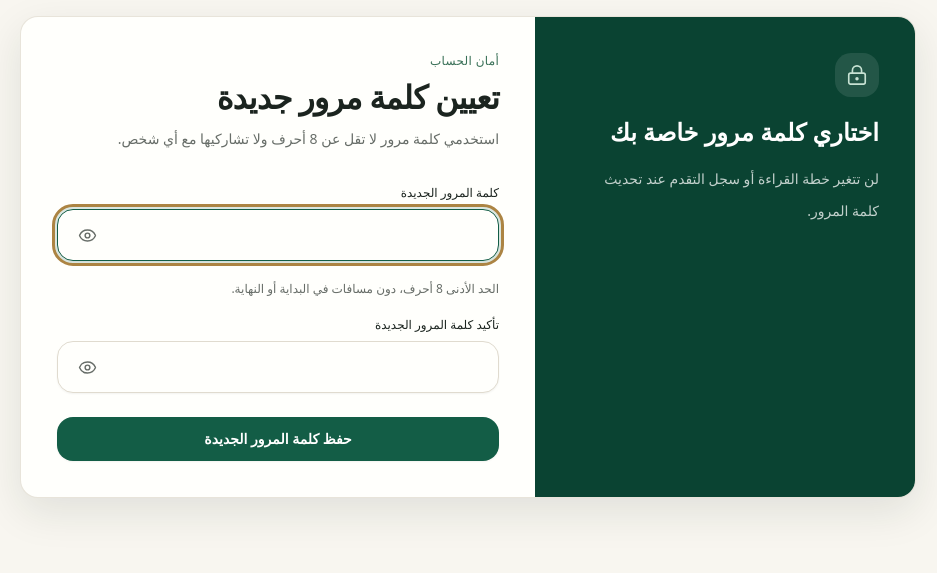
it: ResetPasswordPage › enforces password policy and matching confirmation
Type "short" into the password field labelled "كلمة المرور الجديدة" at (278, 235), box [57, 209, 499, 261]
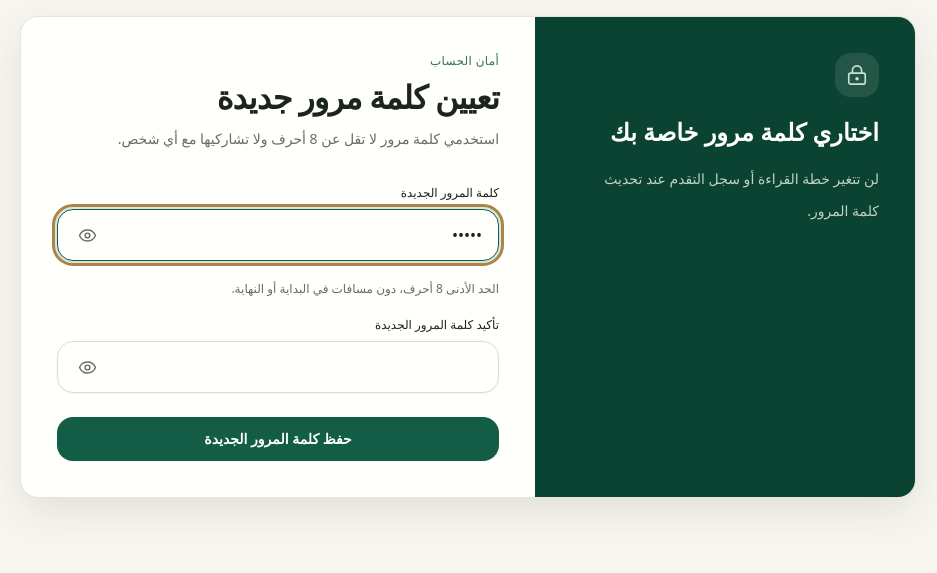
Type "short" into the password field labelled "تأكيد كلمة المرور الجديدة" at (278, 367), box [57, 341, 499, 393]
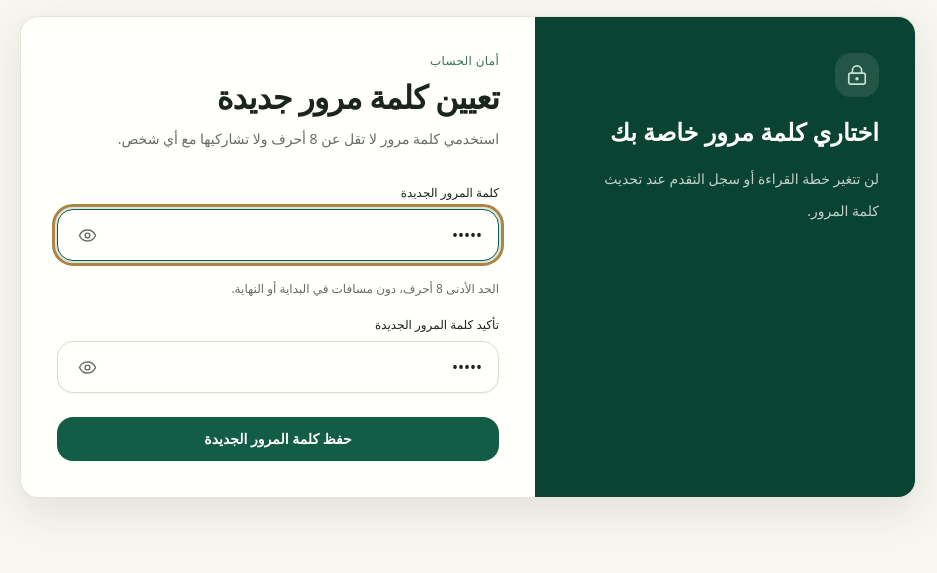
Click the button "حفظ كلمة المرور الجديدة" at (278, 439), box [57, 417, 499, 461]
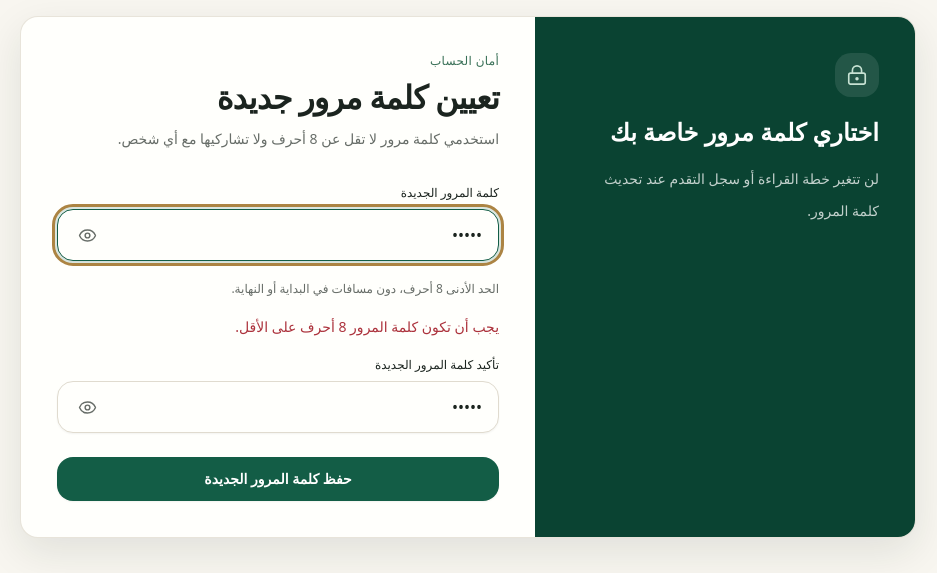
Result: the text "يجب أن تكون كلمة المرور 8 أحرف على الأقل." is shown at [235, 317, 499, 336]
Type "new-password-123" into the password field labelled "كلمة المرور الجديدة" at (278, 235), box [57, 209, 499, 261]
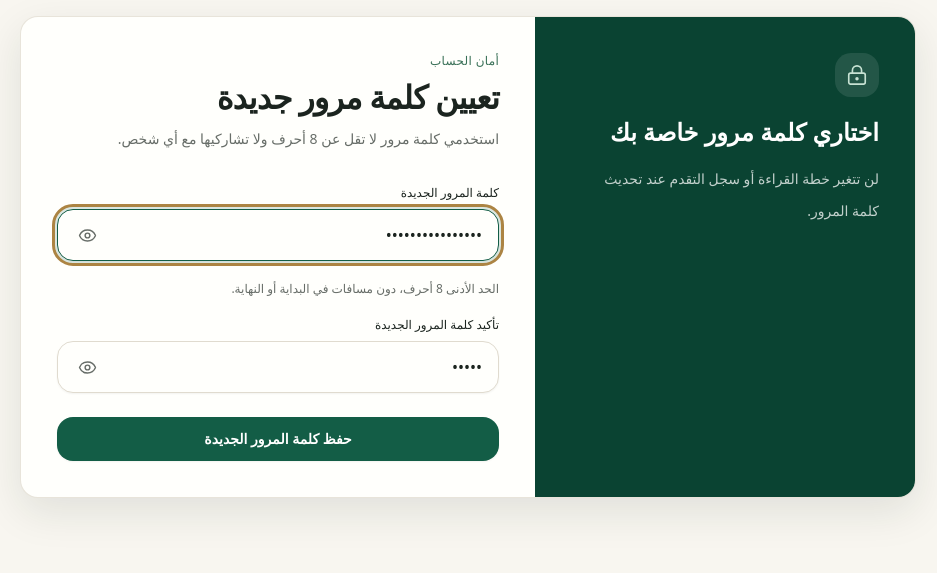
Type "different-password" into the password field labelled "تأكيد كلمة المرور الجديدة" at (278, 367), box [57, 341, 499, 393]
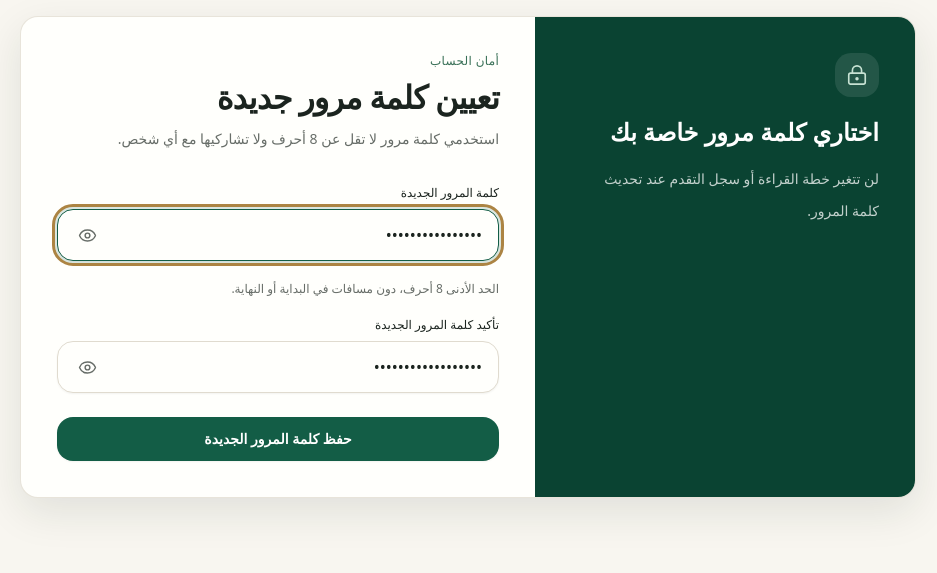
Click the button "حفظ كلمة المرور الجديدة" at (278, 439), box [57, 417, 499, 461]
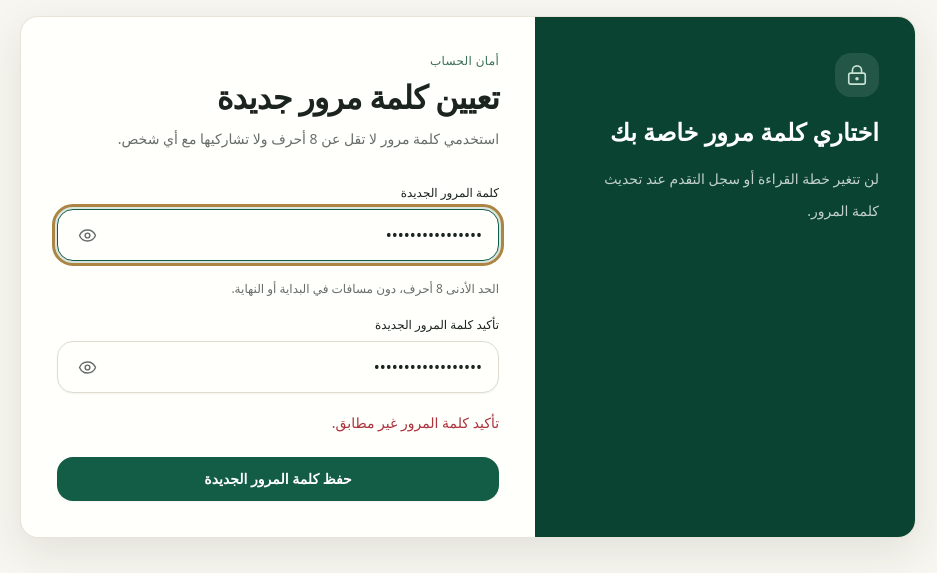
Result: the text "تأكيد كلمة المرور غير مطابق." is shown at [332, 413, 499, 432]
